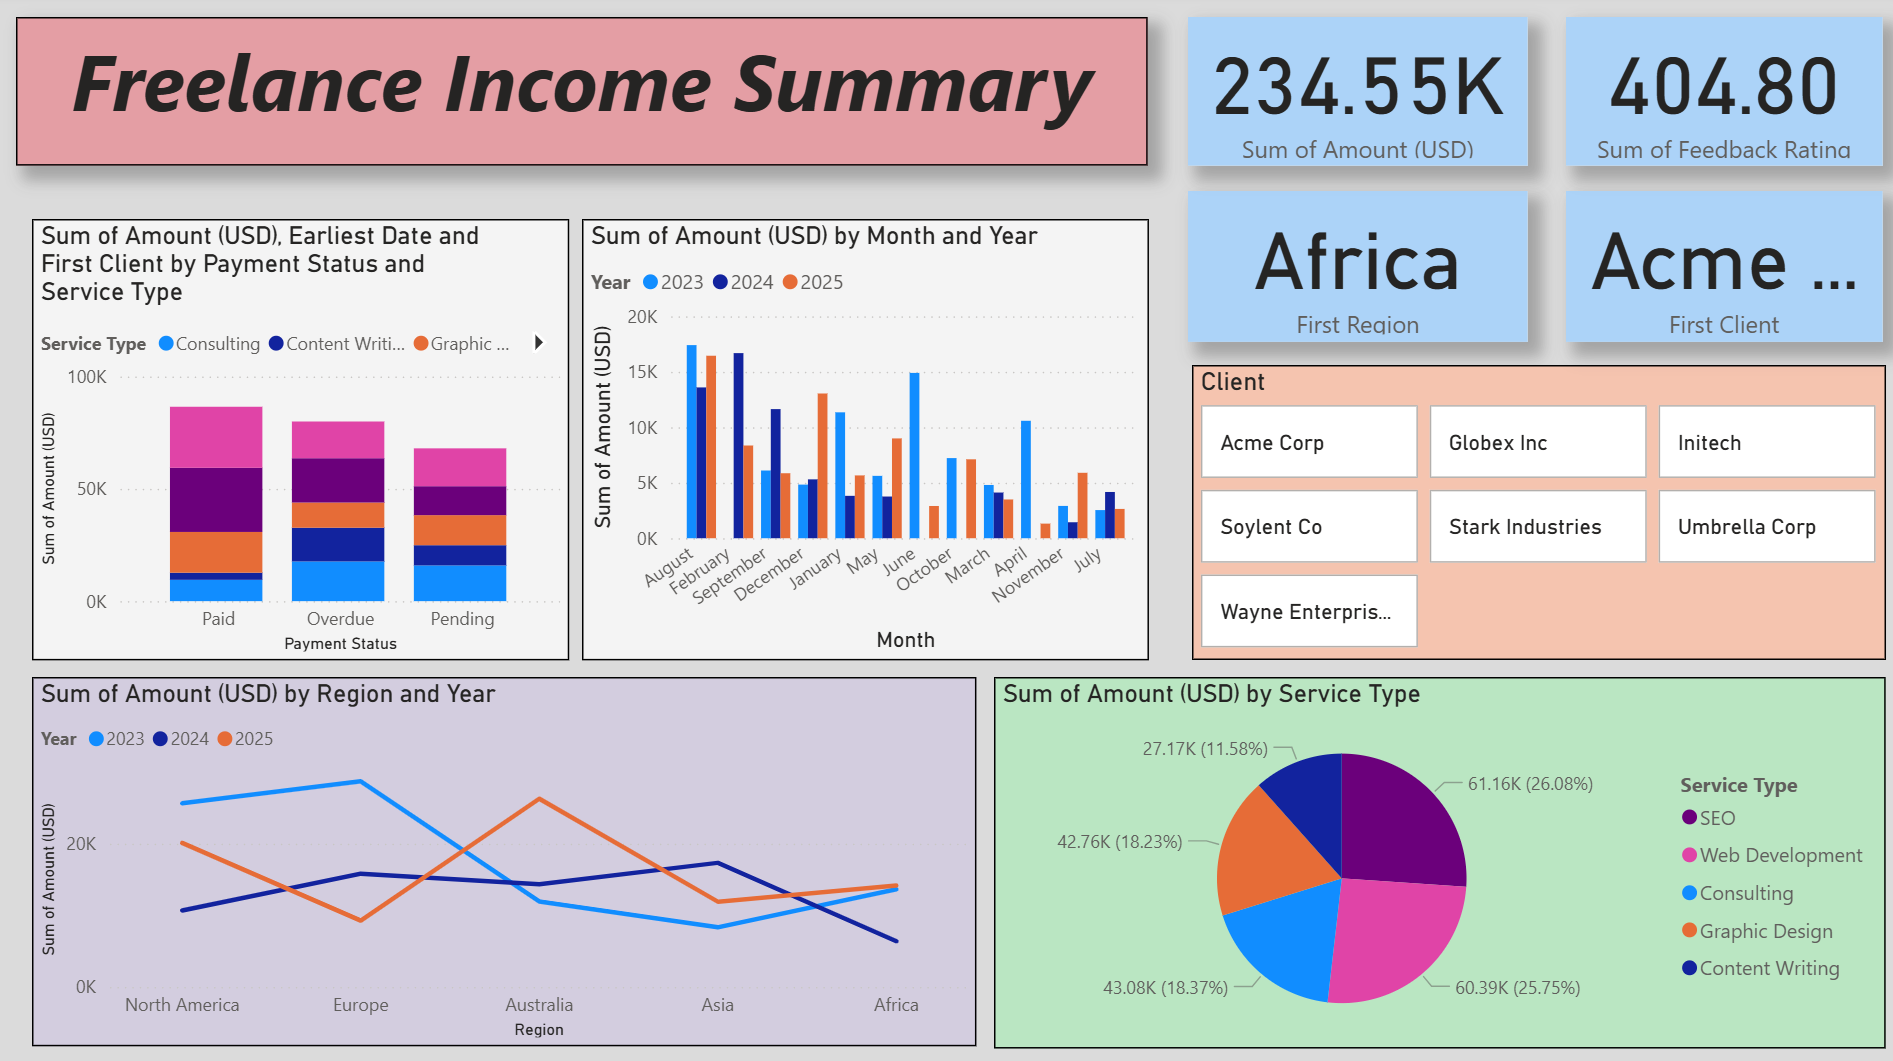

The page's visual inventory and layout, read from the dashboard file:
{"tool":"powerbi","page":{"name":"Page 1","canvas":[1280,720],"ordinal":0},"visuals":[{"type":"clusteredColumnChart","fields":{"Category":["Freelance_Income_Summary.Month"],"Y":["Sum(Freelance_Income_Summary.Amount (USD))"],"Series":["Freelance_Income_Summary.Year"]},"box":[391.4,151.4,381.4,297.1],"z":0},{"type":"pieChart","fields":{"Y":["Sum(Freelance_Income_Summary.Amount (USD))"],"Category":["Freelance_Income_Summary.Service Type"]},"box":[668.6,460,600,250],"z":1},{"type":"columnChart","fields":{"Category":["Freelance_Income_Summary.Payment Status"],"Y":["Sum(Freelance_Income_Summary.Amount (USD))"],"Series":["Freelance_Income_Summary.Service Type"]},"box":[21.4,151.4,361.4,297.1],"z":2},{"type":"textbox","box":[11.4,15.7,761.4,100],"z":3},{"type":"card","fields":{"Values":["Sum(Freelance_Income_Summary.Amount (USD))"]},"box":[800,15.7,228.6,100],"z":4},{"type":"card","fields":{"Values":["Sum(Freelance_Income_Summary.Feedback Rating)"]},"box":[1054.3,15.7,212.9,100],"z":5},{"type":"card","fields":{"Values":["Min(Freelance_Income_Summary.Region)"]},"box":[800,132.9,228.6,101.4],"z":6},{"type":"lineChart","fields":{"Series":["Freelance_Income_Summary.Year"],"Y":["Sum(Freelance_Income_Summary.Amount (USD))"],"Category":["Freelance_Income_Summary.Region"]},"box":[21.4,460,635.7,248.6],"z":7},{"type":"advancedSlicerVisual","fields":{"Values":["Freelance_Income_Summary.Client"]},"box":[801.4,250,467.1,198.6],"z":8},{"type":"card","fields":{"Values":["Min(Freelance_Income_Summary.Client)"]},"box":[1054.3,132.9,212.9,101.4],"z":9}]}

Visuals, with their boxes in screenshot pixels (x1, y1, x2, y2), scaled from the page's 1280x720 canvas onto the 1893x1061 screenshot:
clusteredColumnChart - Freelance_Income_Summary.Month x Sum(Freelance_Income_Summary.Amount (USD)): 579/223/1143/661
pieChart - Sum(Freelance_Income_Summary.Amount (USD)) x Freelance_Income_Summary.Service Type: 989/678/1876/1046
columnChart - Freelance_Income_Summary.Payment Status x Sum(Freelance_Income_Summary.Amount (USD)): 32/223/566/661
textbox: 17/23/1143/170
card - Sum(Freelance_Income_Summary.Amount (USD)): 1183/23/1521/170
card - Sum(Freelance_Income_Summary.Feedback Rating): 1559/23/1874/170
card - Min(Freelance_Income_Summary.Region): 1183/196/1521/345
lineChart - Freelance_Income_Summary.Year x Sum(Freelance_Income_Summary.Amount (USD)): 32/678/972/1044
advancedSlicerVisual - Freelance_Income_Summary.Client: 1185/368/1876/661
card - Min(Freelance_Income_Summary.Client): 1559/196/1874/345
